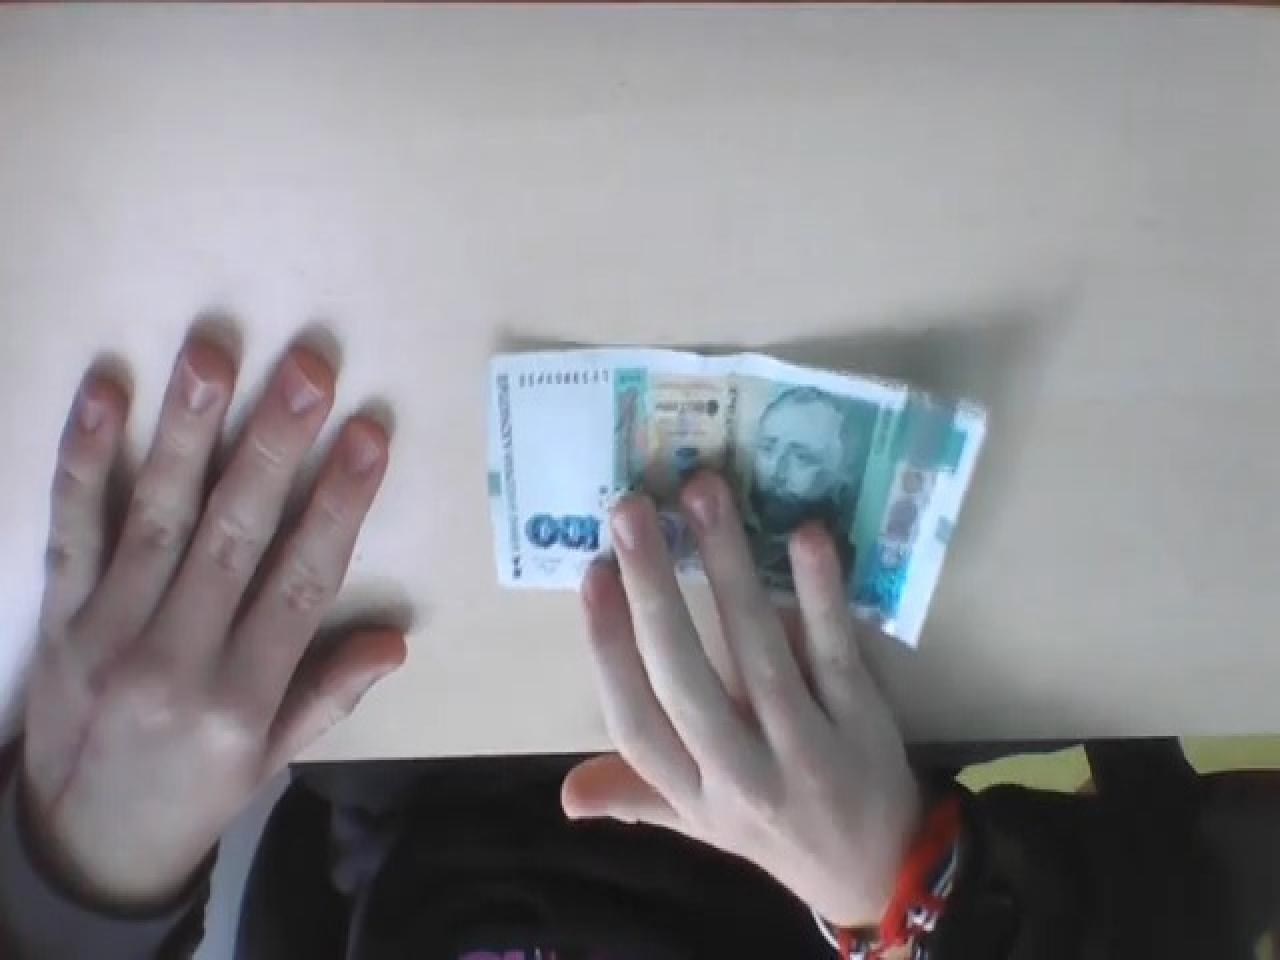100leva: (484, 344, 988, 653)
